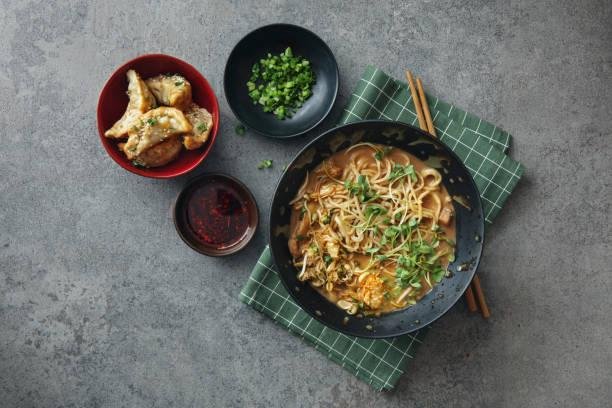Braised Crucian Carp: (268, 121, 480, 337), (96, 53, 216, 179)
